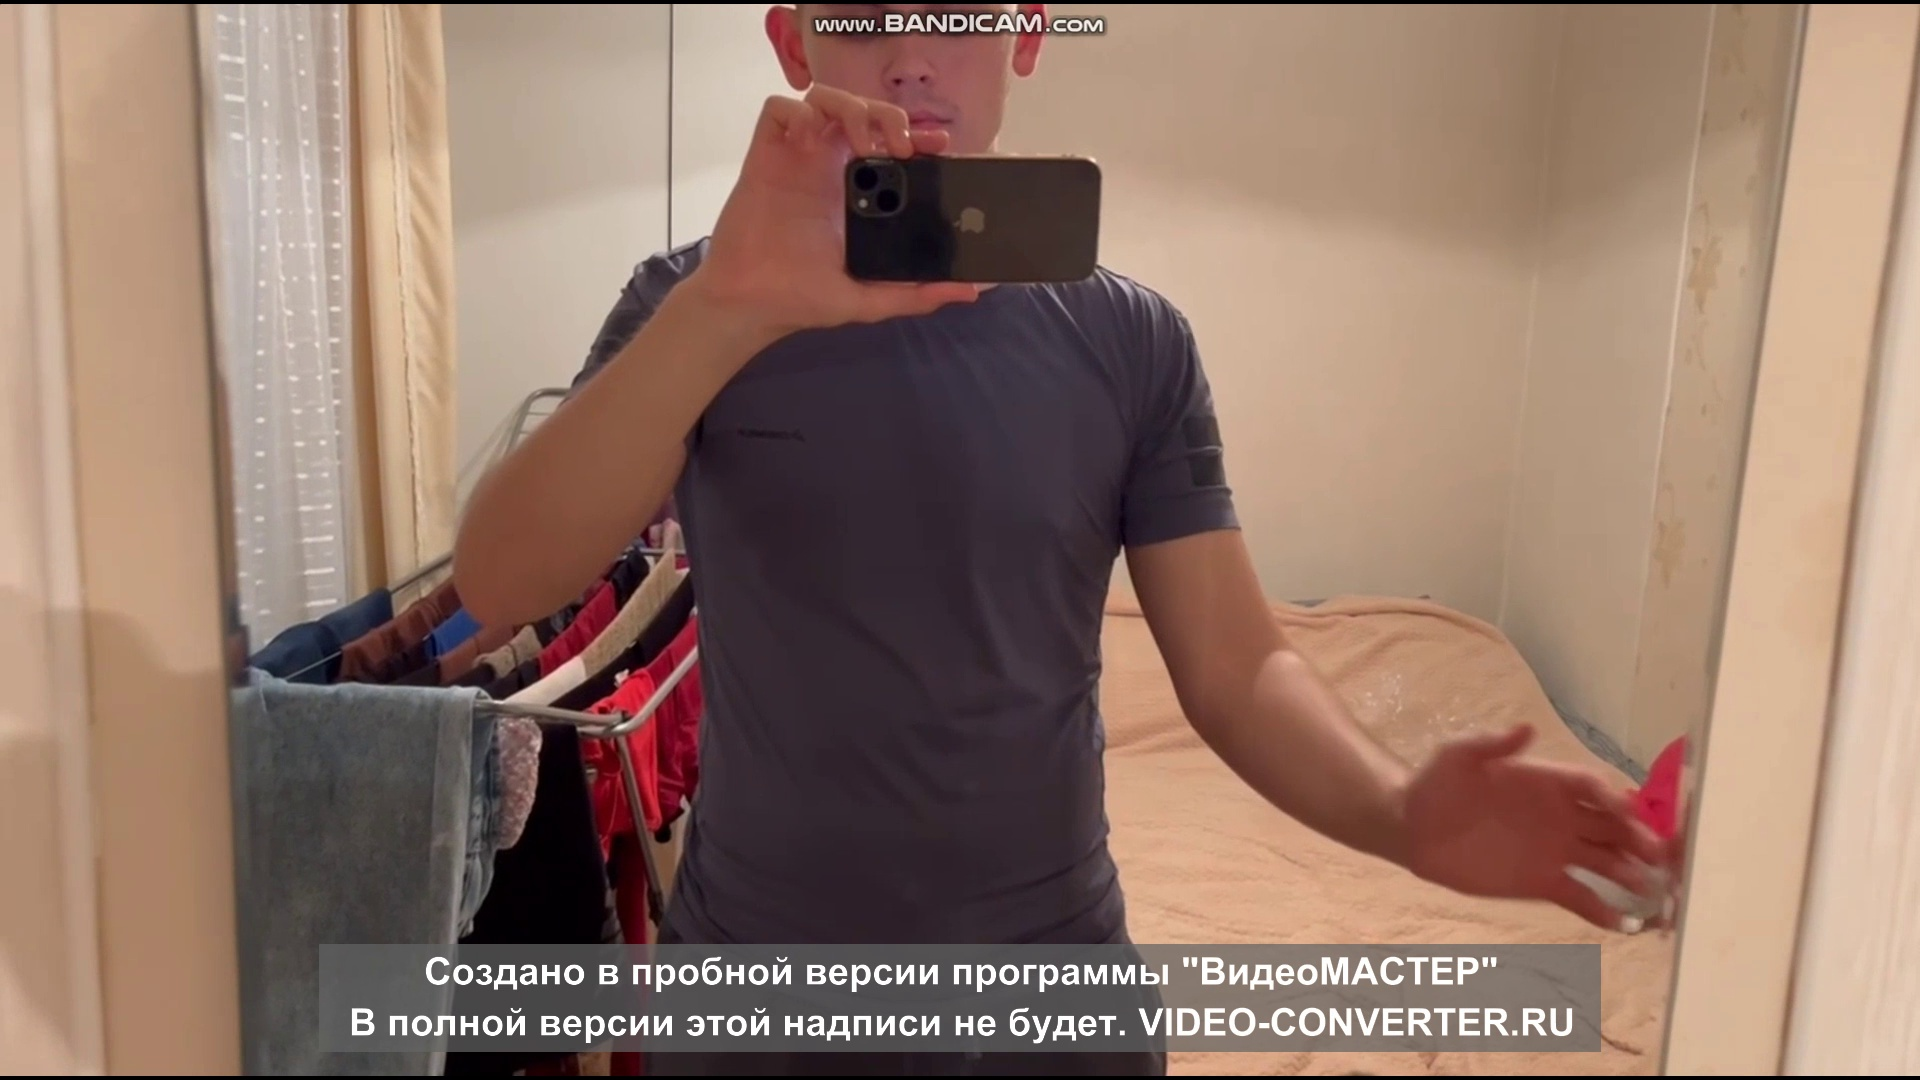Ладонь: (1407, 723, 1663, 931)
